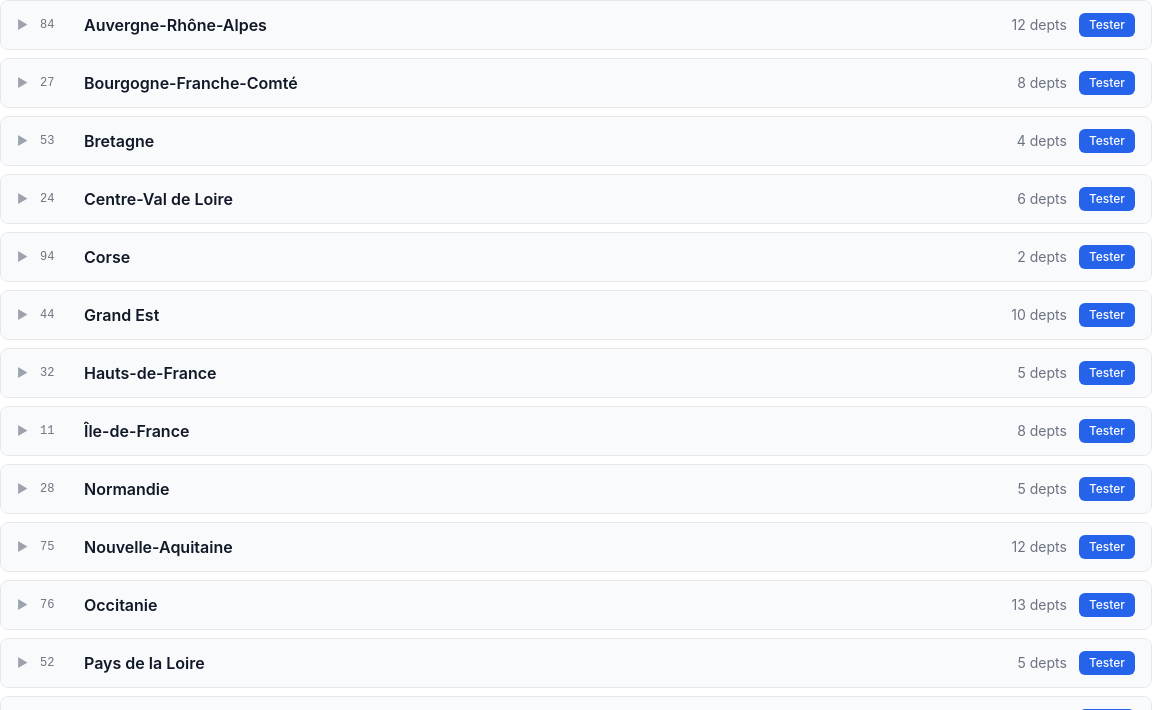
Test: AccordionRegions – interaction › ouvre un accordéon au clic et affiche ses départements
Click the button "▶ 11 Île-de-France" at (137, 431), box [17,419,1005,443]
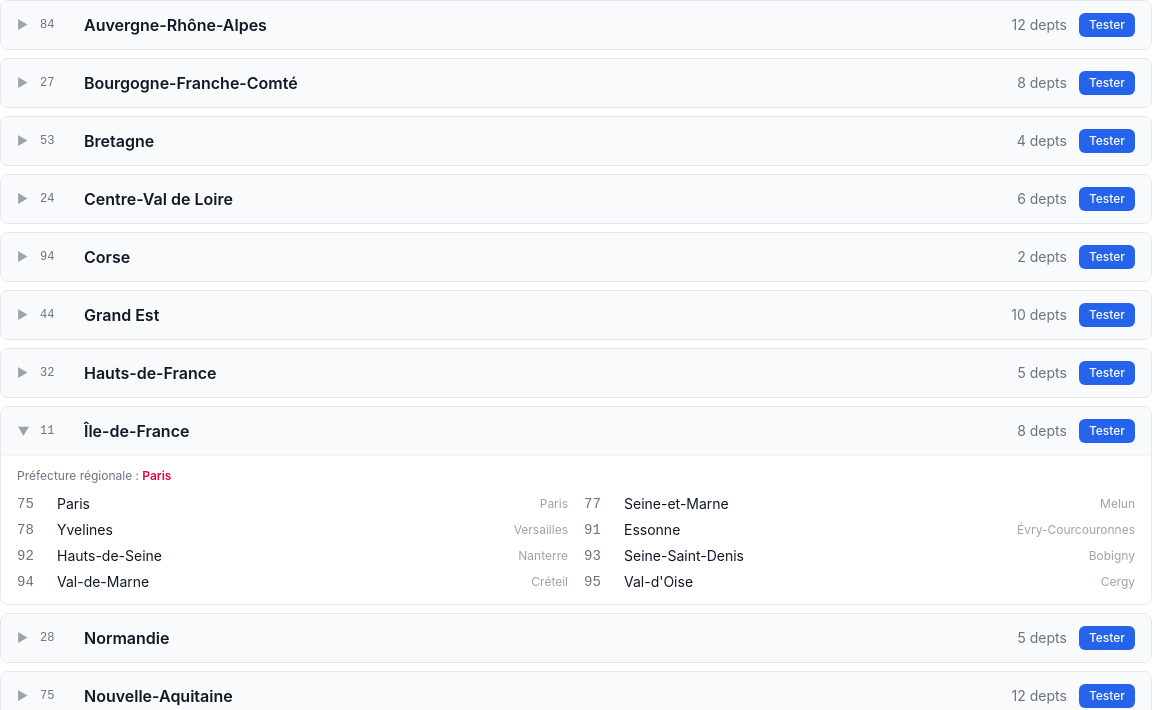
Expected: the button "▶ 11 Île-de-France" is expanded, [17,419,1005,443]
